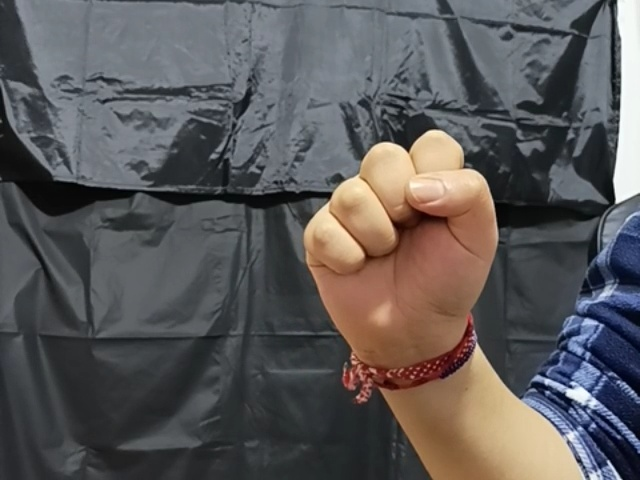S: (299, 124, 497, 342)
